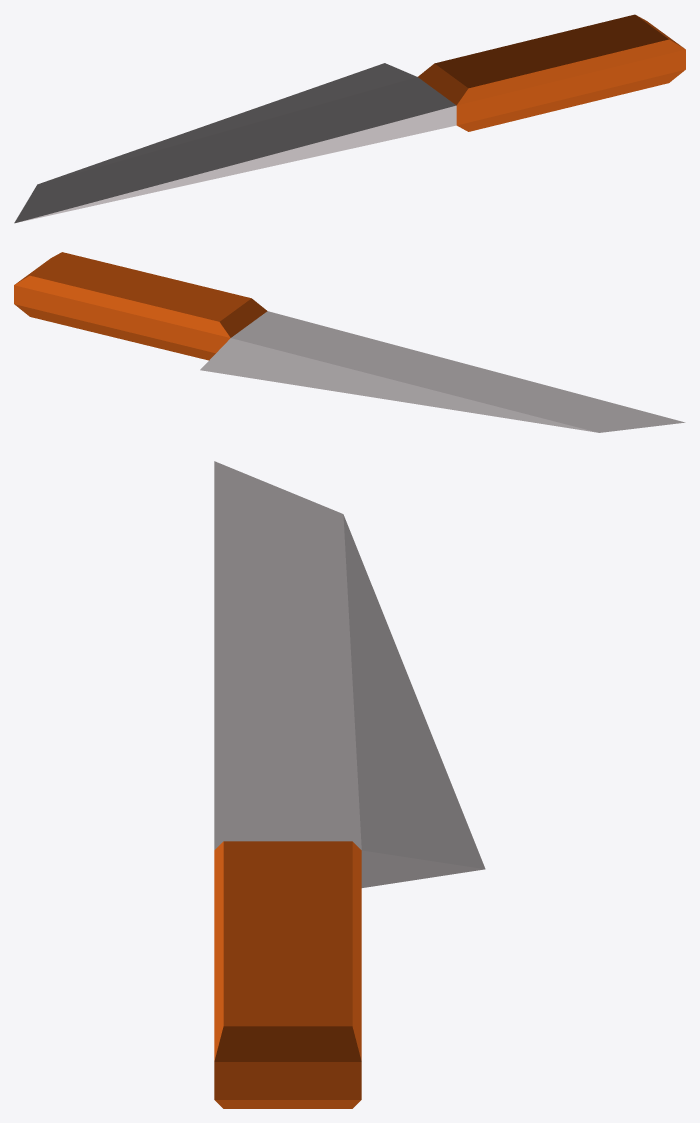
File: Fruit Knife.fbx
The picture shows the model from 3 angles, top to bottom: view 1: azimuth 30°, elevation 25°; view 2: azimuth 150°, elevation 25°; view 3: azimuth 270°, elevation 25°; orthographic projection. The views are drawn at different scales.
Parts seen in each view (by area): view 1: Node 0; view 2: Node 0; view 3: Node 0.
Part boxes in pixels (left/top/right/bottom): Node 0: left=14, top=14, right=685, bottom=223; Node 0: left=14, top=252, right=685, bottom=432; Node 0: left=214, top=461, right=485, bottom=1108.
Bounding box in the file's own units: 0.0843 × 0.0283 × 0.4555.
